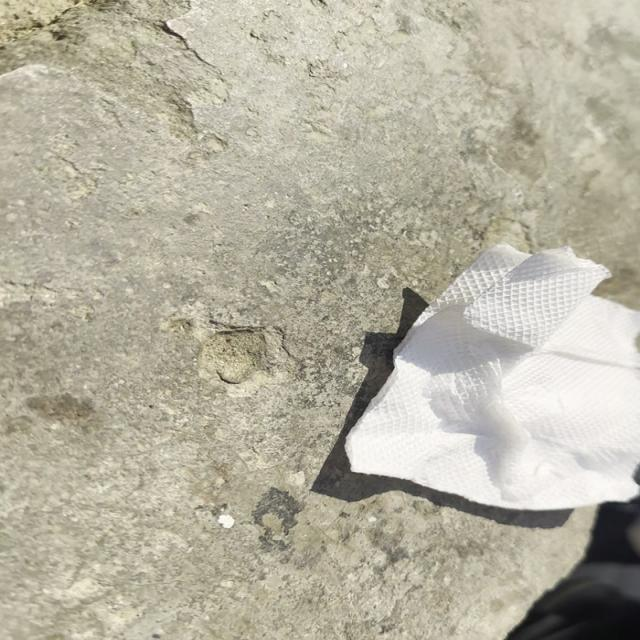tissue: (342, 244, 640, 511)
